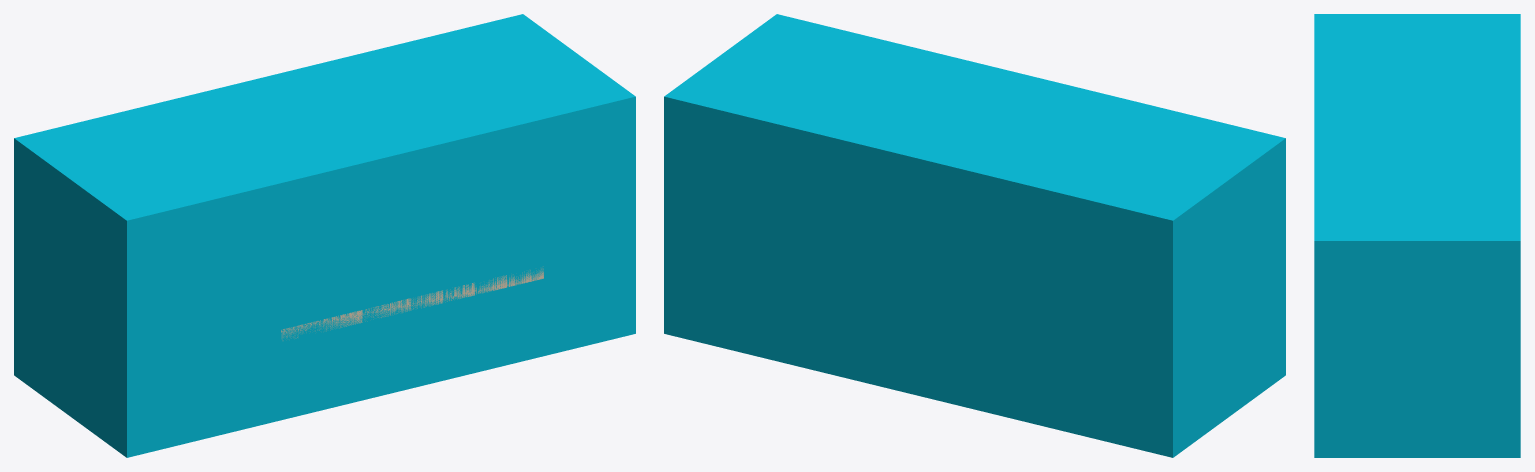
The model's file is furnishingelement-600mm-depth.glb.
3 renders of one model, left to right at view 1: azimuth 30°, elevation 25°; view 2: azimuth 150°, elevation 25°; view 3: azimuth 270°, elevation 25°, orthographic. The views are drawn at different scales.
Parts seen in each view (by area): view 1: 0BTBFw6f90Nfh9rP1dl_3S, 2OBrcmyk58NupXoVOHUv88; view 2: 0BTBFw6f90Nfh9rP1dl_3S; view 3: 0BTBFw6f90Nfh9rP1dl_3S.
Part boxes in pixels (x1=…): 0BTBFw6f90Nfh9rP1dl_3S: x1=14, y1=14, x2=635, y2=457; 2OBrcmyk58NupXoVOHUv88: x1=281, y1=266, x2=543, y2=340; 0BTBFw6f90Nfh9rP1dl_3S: x1=664, y1=14, x2=1285, y2=457; 0BTBFw6f90Nfh9rP1dl_3S: x1=1314, y1=14, x2=1520, y2=457.
Bounding box in the file's own units: 5.81 × 2.59 × 2.23.
